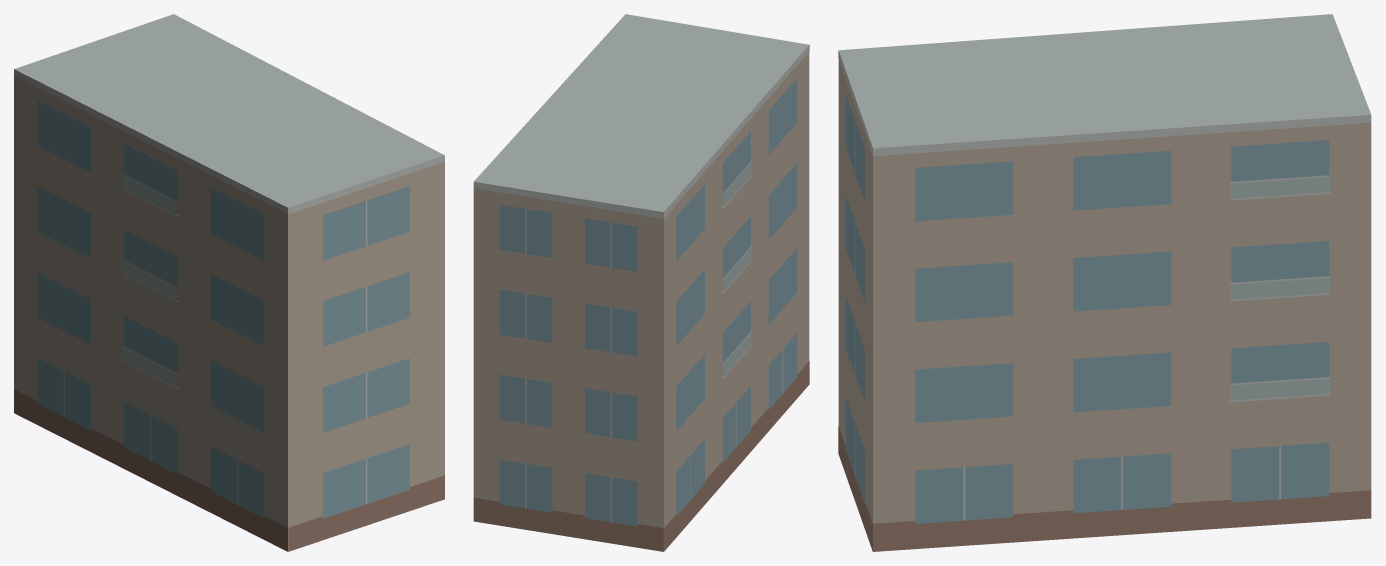
Rendered from survey-upis-32752560.glb.
The picture shows the model from 3 angles, left to right: view 1: azimuth 30°, elevation 25°; view 2: azimuth 150°, elevation 25°; view 3: azimuth 270°, elevation 25°; orthographic projection. The views are drawn at different scales.
Visible parts, largest first — view 1: survey-upis-32752560.tmp; view 2: survey-upis-32752560.tmp; view 3: survey-upis-32752560.tmp.
Part boxes in pixels (left/top/right/bottom): survey-upis-32752560.tmp: left=14, top=14, right=444, bottom=551; survey-upis-32752560.tmp: left=473, top=14, right=809, bottom=551; survey-upis-32752560.tmp: left=838, top=14, right=1371, bottom=551.
Size of the model in its own units: 9.01 by 12.6 by 15.09.
